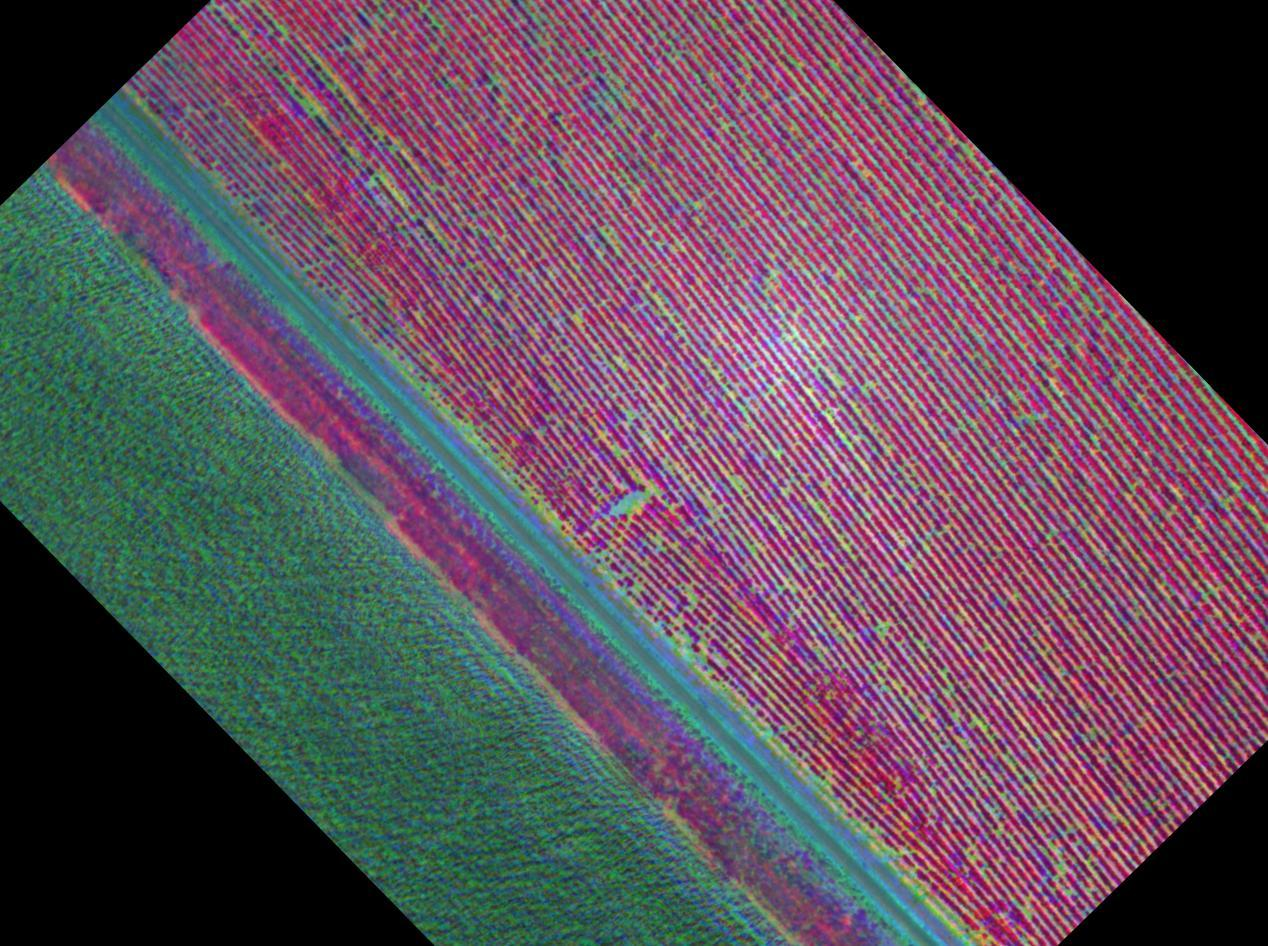dc: (620, 506, 627, 510), (664, 310, 668, 314), (631, 495, 635, 499), (371, 180, 374, 184), (1016, 418, 1020, 421), (784, 491, 787, 495), (806, 390, 809, 393)
